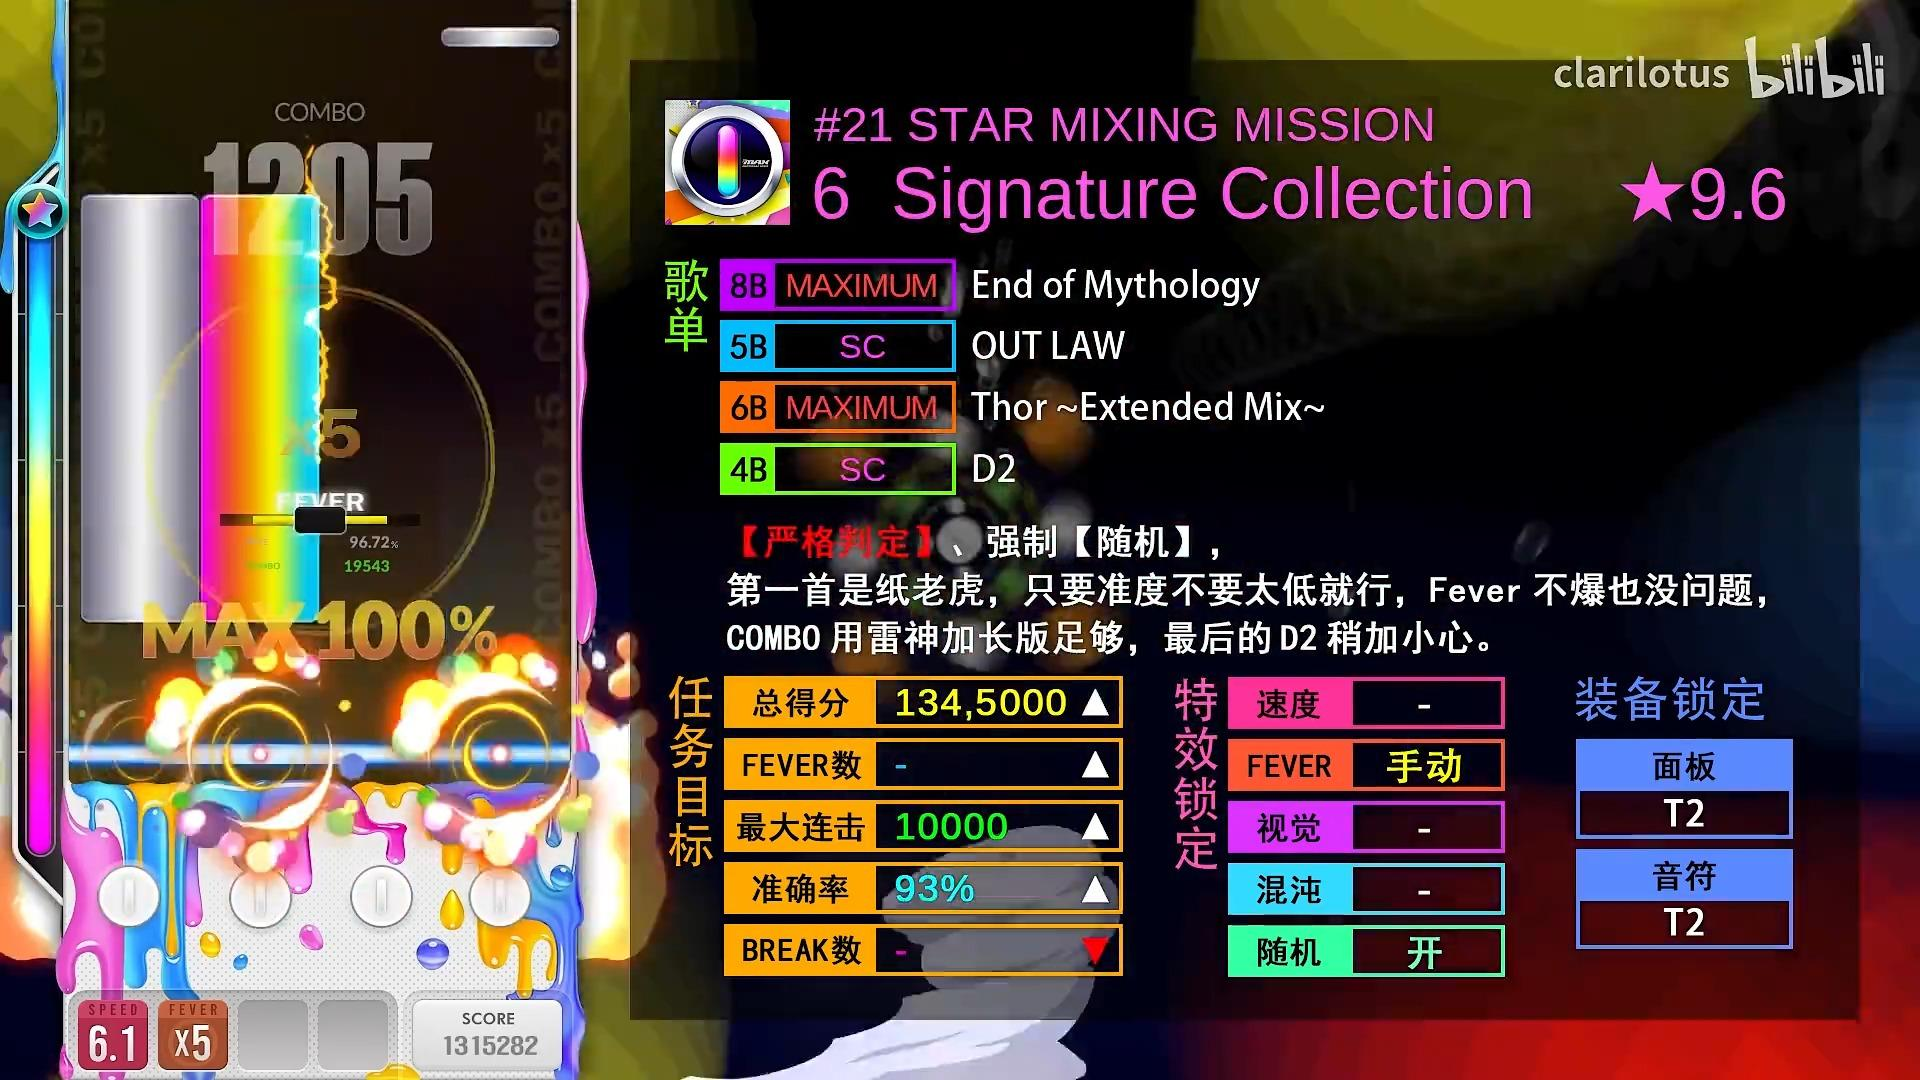hold-end: (199, 195, 320, 216), (81, 194, 200, 214)
hold-start: (80, 598, 201, 624), (199, 598, 320, 623)
note: (441, 27, 559, 47)
